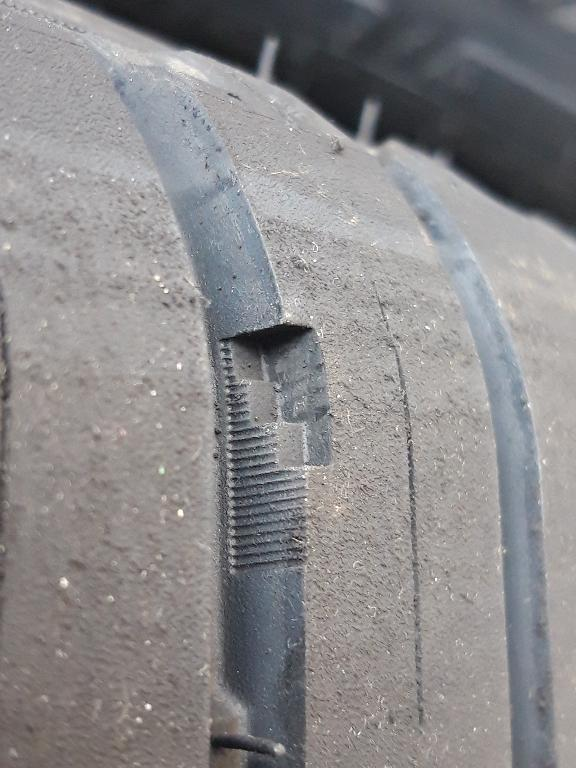temoin:75: (209, 313, 342, 525)
